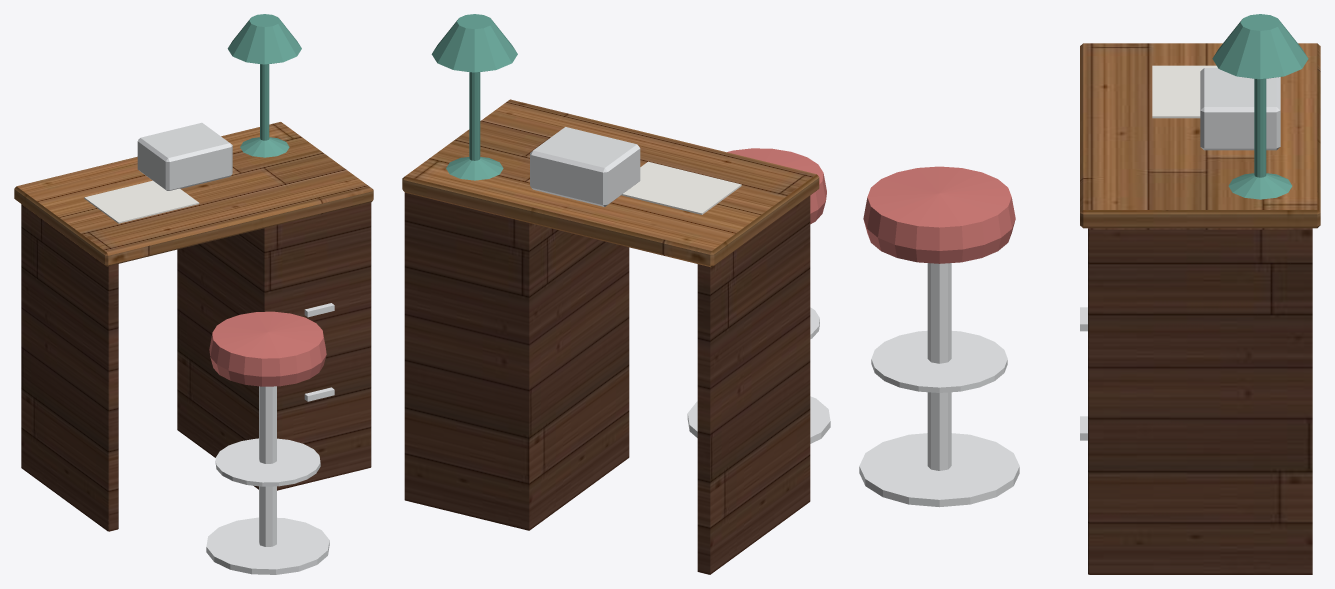
Rendered from office_desk.glb.
3 views of the same model, side by side, from view 1: azimuth 30°, elevation 25°; view 2: azimuth 150°, elevation 25°; view 3: azimuth 270°, elevation 25° (orthographic). The views are drawn at different scales.
Parts seen in each view (by area): view 1: office_desk_dkwood, office_desk_wood, office_desk_chrome, office_desk_vinyl_r, office_desk_metal, office_desk_trim_g, office_desk_paper; view 2: office_desk_dkwood, office_desk_wood, office_desk_metal, office_desk_trim_g, office_desk_paper, office_desk_vinyl_r, office_desk_chrome; view 3: office_desk_dkwood, office_desk_wood, office_desk_chrome, office_desk_vinyl_r, office_desk_trim_g, office_desk_metal, office_desk_paper.
Part boxes in pixels (x1,y1,x2,y2): office_desk_dkwood: (21, 202, 371, 531); office_desk_wood: (14, 122, 373, 266); office_desk_chrome: (206, 303, 334, 574); office_desk_vinyl_r: (209, 311, 326, 386); office_desk_metal: (137, 122, 232, 190); office_desk_trim_g: (227, 14, 301, 157); office_desk_paper: (84, 180, 199, 223); office_desk_dkwood: (404, 192, 810, 574); office_desk_wood: (402, 99, 819, 267); office_desk_metal: (530, 127, 640, 206); office_desk_trim_g: (431, 14, 517, 180); office_desk_paper: (621, 161, 741, 214); office_desk_vinyl_r: (727, 148, 826, 224); office_desk_chrome: (687, 307, 830, 443); office_desk_dkwood: (1088, 228, 1312, 574); office_desk_wood: (1080, 43, 1320, 228); office_desk_chrome: (859, 263, 1087, 507); office_desk_vinyl_r: (863, 166, 1015, 263); office_desk_trim_g: (1212, 14, 1308, 199); office_desk_metal: (1200, 68, 1280, 150); office_desk_paper: (1152, 65, 1217, 118).
Bounding box in the file's own units: 1 × 1.45 × 1.15.
Materials: 7 (2 with a texture image).
